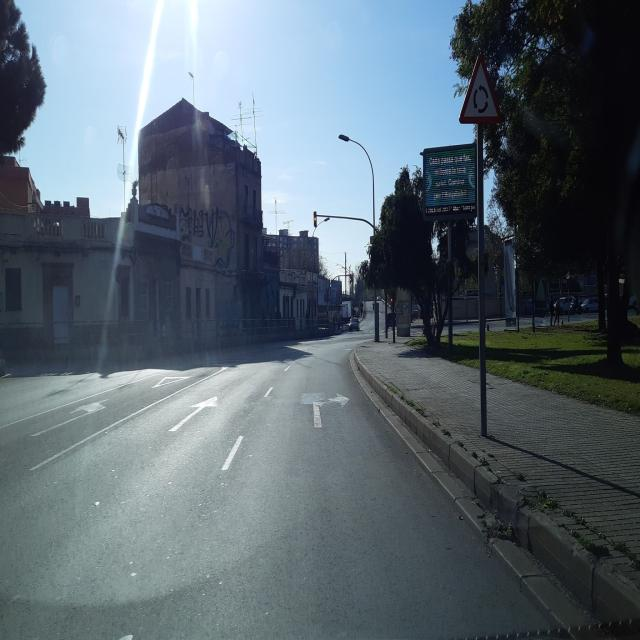car: (558, 294, 576, 315), (349, 318, 359, 332)
